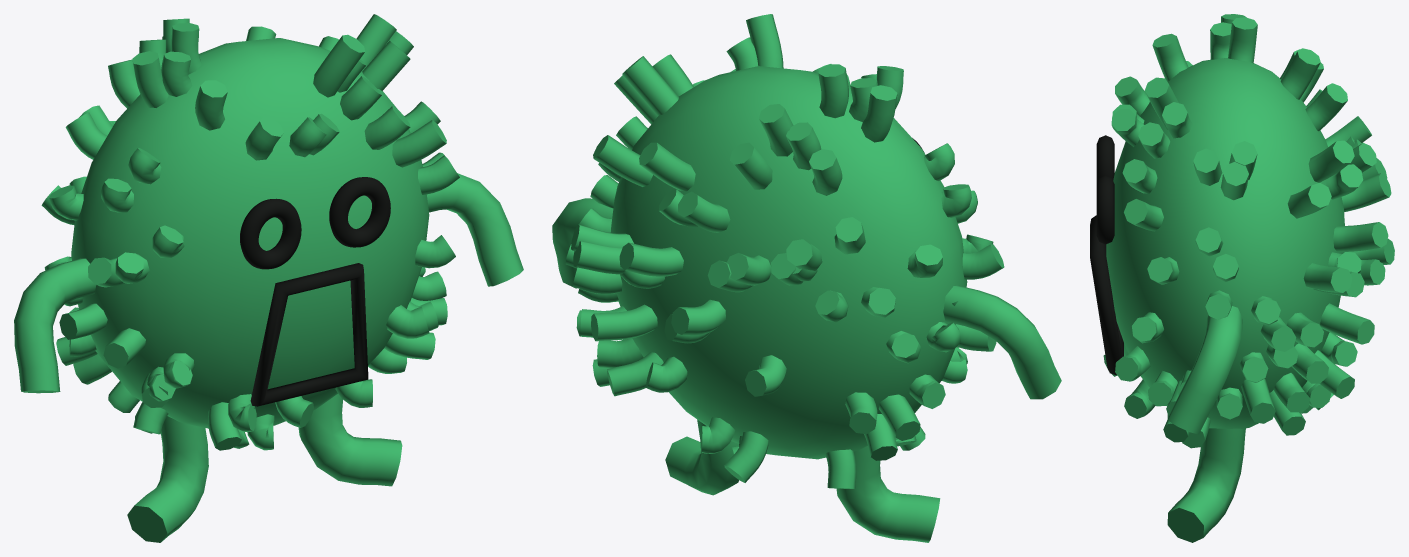
Rendered from 03_surprise.glb.
The picture shows the model from 3 angles, left to right: view 1: azimuth 30°, elevation 25°; view 2: azimuth 150°, elevation 25°; view 3: azimuth 270°, elevation 25°; orthographic projection. The views are drawn at different scales.
Parts seen in each view (by area): view 1: 03_surprise_sculpt, 03_surprise_expression; view 2: 03_surprise_sculpt; view 3: 03_surprise_sculpt, 03_surprise_expression.
Part boxes in pixels (<box>): 03_surprise_sculpt: <box>14,14,523,542</box>; 03_surprise_expression: <box>240,177,390,406</box>; 03_surprise_sculpt: <box>552,14,1061,542</box>; 03_surprise_sculpt: <box>1103,14,1394,542</box>; 03_surprise_expression: <box>1090,135,1123,374</box>.
Size of the model in its own units: 2.11 by 1.94 by 1.22.
